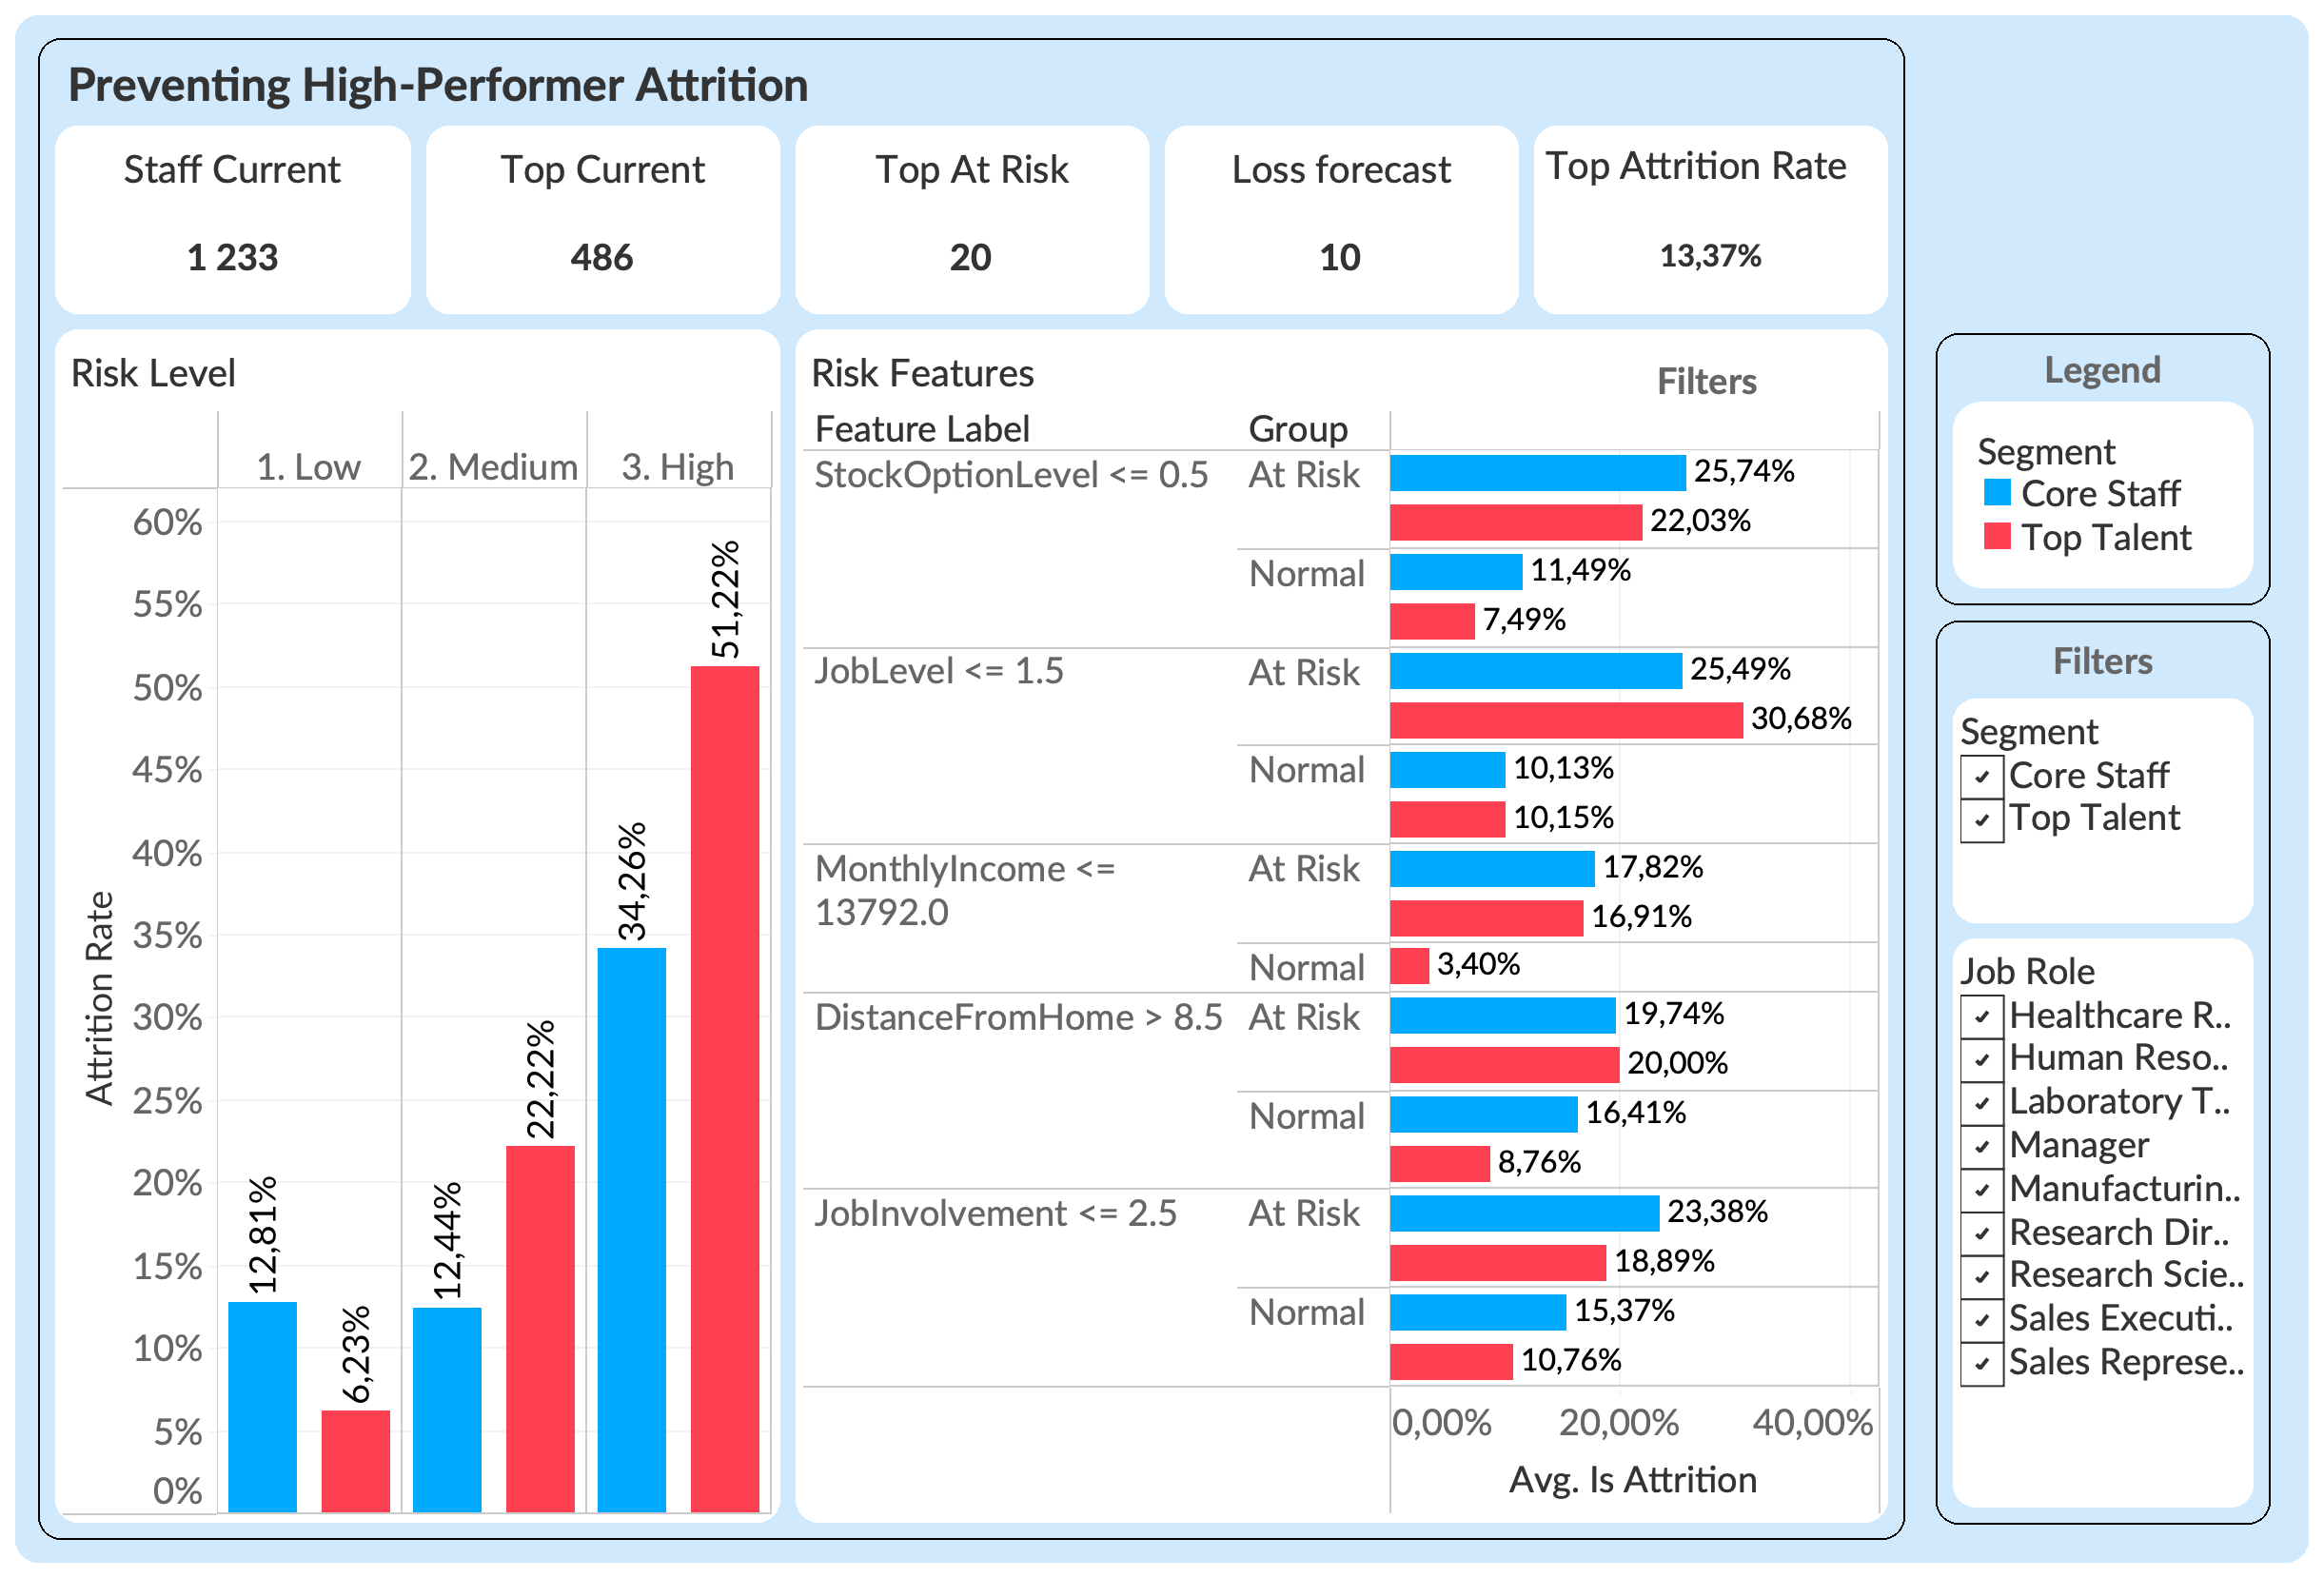

This screenshot's page, from the dashboard's own definition file:
{"tool":"tableau","page":{"name":"Preventing High-Performer Attrition","canvas":[1000,1000],"units":"permille","ordinal":0},"visuals":[{"type":"text","box":[829.6,29,150.7,177.8]},{"type":"title","box":[20.5,30.2,795.2,44.6]},{"type":"worksheet","title":"Staff Current","mark":"Automatic","box":[20.5,74.8,159.7,129.1]},{"type":"worksheet","title":"Top Current","mark":"Automatic","box":[180.2,74.8,158.9,129.1]},{"type":"worksheet","title":"Top At Risk","mark":"Automatic","box":[339.1,74.8,158.9,129.1]},{"type":"worksheet","title":"Loss forecast","mark":"Automatic","box":[497.9,74.8,158.9,129.1]},{"type":"worksheet","title":"Top Attrition Rate","mark":"Automatic","box":[656.8,74.8,158.9,129.1]},{"type":"text","box":[660.1,166.5,149.1,149.6]},{"type":"worksheet","title":"Risk Level","mark":"Automatic","rows":["Calculation_4495351621898240"],"cols":["Risk_Level","Segment"],"box":[20.5,203.3,318.3,766.5]},{"type":"worksheet","title":"Risk Features","mark":"Bar","rows":["Feature_Label","Group","Segment"],"cols":["is_attrition"],"box":[338.8,203.3,476.9,766.5]},{"type":"text","box":[837,217.6,135.9,32.6]},{"type":"legend","title":"Risk Level","param":"[federated.0mz2nrm1pl2tbt19sof4x0doxqz7].[none:Segment:nk]","box":[837,250.2,135.9,127.8]},{"type":"text","box":[837,399.7,135.9,38.6]},{"type":"filter","title":"Risk Level","param":"[federated.0mz2nrm1pl2tbt19sof4x0doxqz7].[none:Segment:nk]","box":[837,438.3,135.9,152]},{"type":"filter","title":"Risk Level","param":"[federated.0mz2nrm1pl2tbt19sof4x0doxqz7].[none:JobRole:nk]","box":[837,590.3,135.9,369.8]}]}

Visuals, with their boxes on the dashboard's canvas, which has no fixed pixel size, in thousandths of its width and height (x1, y1, x2, y2). These are canvas units, not pixel positions in the 2324x1578 screenshot, which may show the page scaled, cropped or inside an application window:
text: (830, 29, 980, 207)
title: (20, 30, 816, 75)
"Staff Current" worksheet: (20, 75, 180, 204)
"Top Current" worksheet: (180, 75, 339, 204)
"Top At Risk" worksheet: (339, 75, 498, 204)
"Loss forecast" worksheet: (498, 75, 657, 204)
"Top Attrition Rate" worksheet: (657, 75, 816, 204)
text: (660, 166, 809, 316)
"Risk Level" worksheet: (20, 203, 339, 970)
"Risk Features" worksheet (Bar marks): (339, 203, 816, 970)
text: (837, 218, 973, 250)
"Risk Level" legend: (837, 250, 973, 378)
text: (837, 400, 973, 438)
"Risk Level" filter: (837, 438, 973, 590)
"Risk Level" filter: (837, 590, 973, 960)
